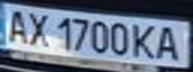0: (87, 18, 112, 55), (109, 20, 133, 57)
1: (51, 13, 72, 51)
7: (69, 16, 90, 52)
A: (151, 23, 184, 62), (0, 6, 30, 44)
K: (130, 21, 160, 61)
X: (24, 9, 54, 47)
